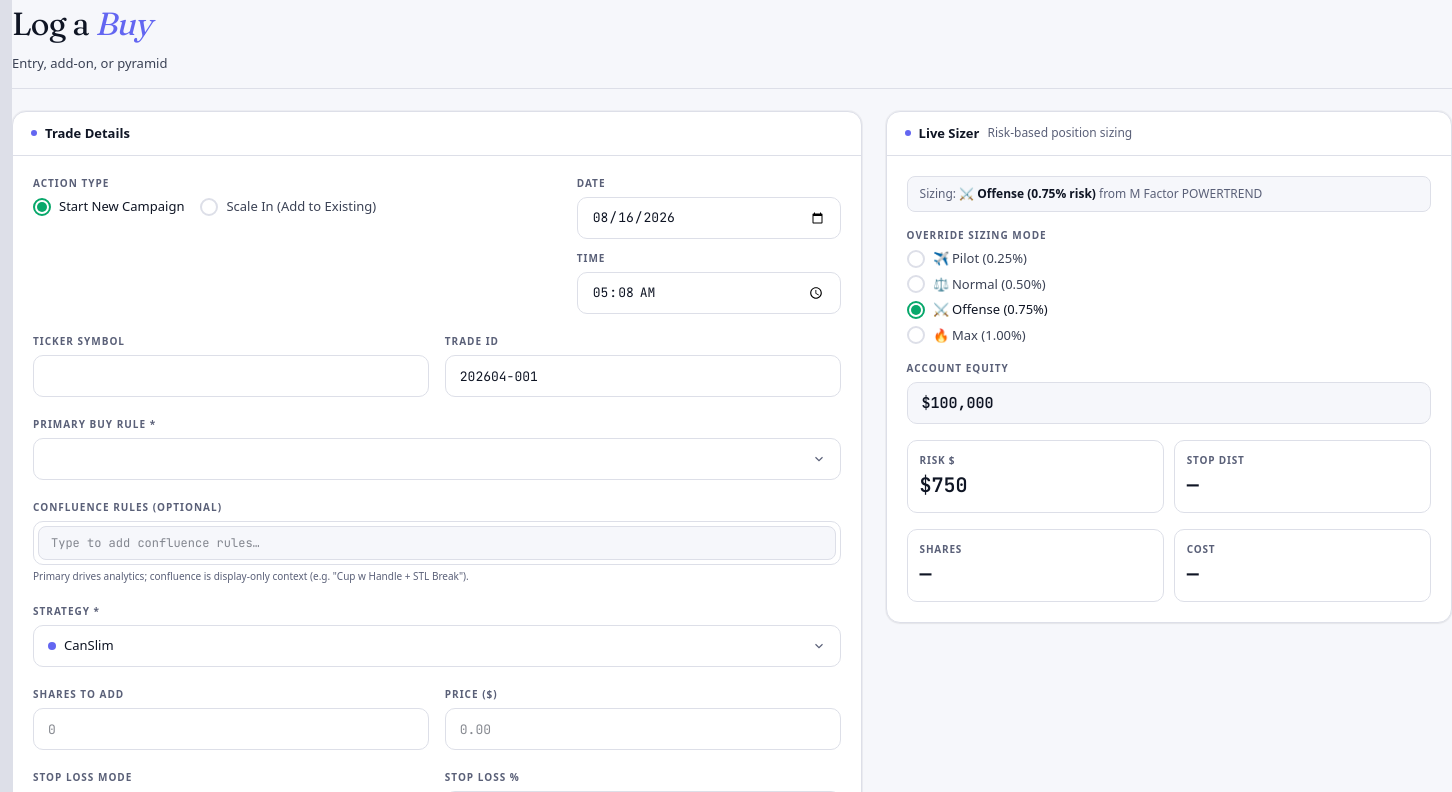
Test: LogBuy — read-only MCT-driven sizing mode › clicking a different mode flips indicator to '— manual override' and shows Reset
The width and height of the screenshot is (1452, 792).
Expected: the element with test id "logbuy-sizing-mode-indicator" shows "Offense", [977,185,1024,202]
// Click the Pilot radio. Mode label includes "Pilot (0.25%)".
What coordinates should you click on to do the following:
click the text "✈️ Pilot (0.25%)"
I would click on:
 (980, 259)
Its box is [933,249,1027,268].
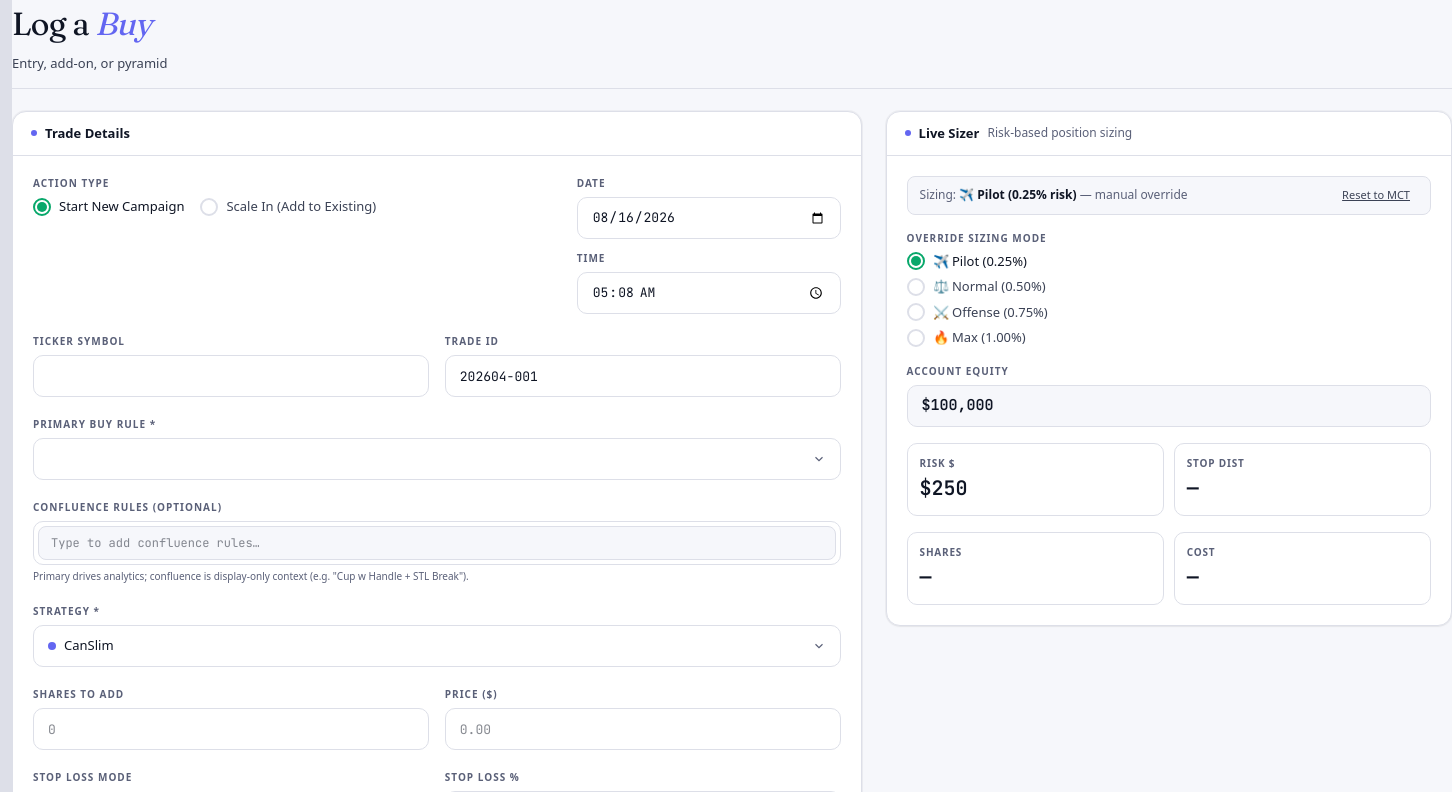
Result: the element with test id "logbuy-sizing-mode-indicator" shows "Pilot" at [977,186,1005,203]
Result: the element with test id "logbuy-sizing-mode-indicator" shows "0.25% risk" at [907,176,1431,214]
Result: the element with test id "logbuy-sizing-mode-indicator" shows "manual override" at [1080,186,1188,203]
